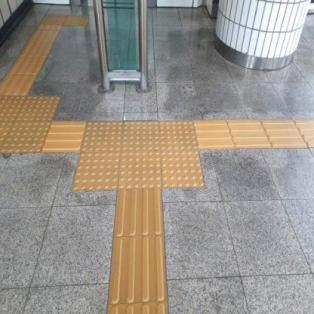Podoctatil: (65, 108, 214, 212), (107, 190, 170, 313), (0, 77, 73, 167), (0, 26, 63, 96), (200, 117, 314, 149), (50, 118, 80, 151), (41, 12, 88, 27)
